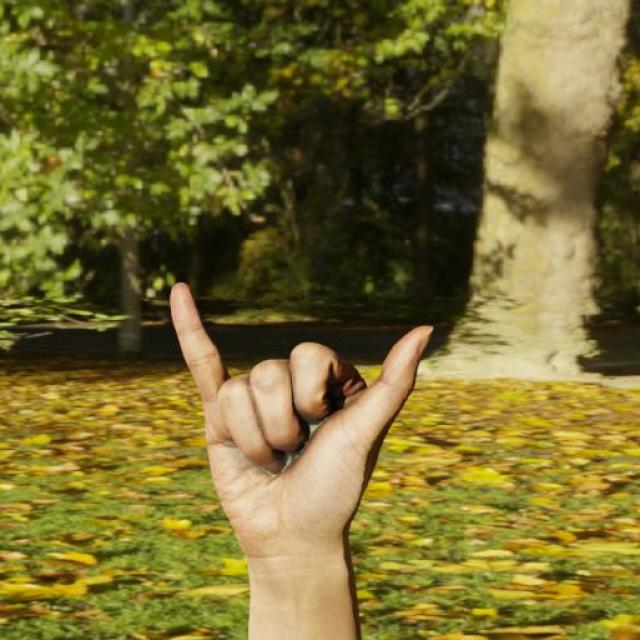Y: (167, 278, 443, 563)
